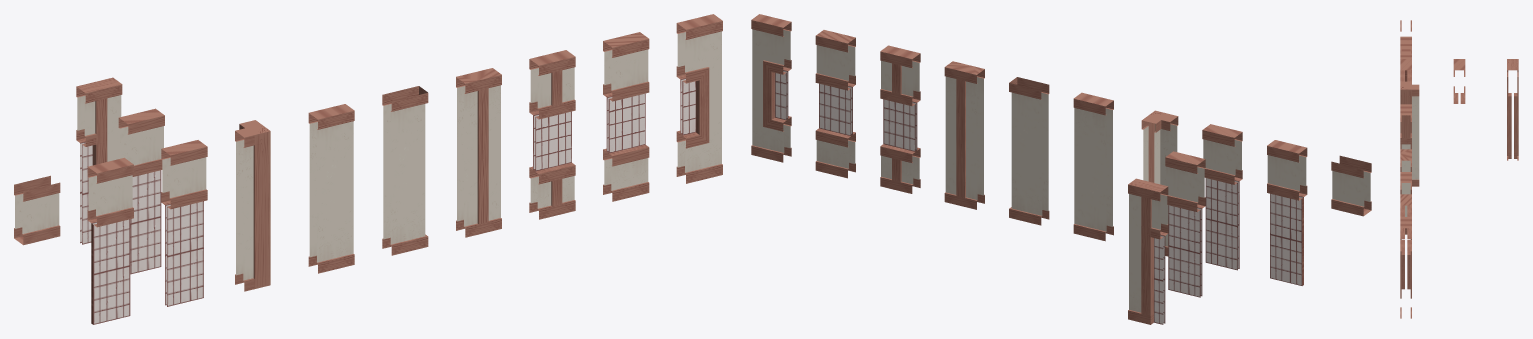
File: Paredes.fbx
3 views of the same model, side by side, from view 1: azimuth 30°, elevation 25°; view 2: azimuth 150°, elevation 25°; view 3: azimuth 270°, elevation 25° (orthographic). The views are drawn at different scales.
Visible parts, largest first — view 1: Pared_Base, Pared_Ventana_Costado, Pared_Soportado.002, Pared_Ventana_Centro_No Sop, Pared_Cerrado, Pared_Ventana_Centro, Pared_Puerta_Cerrado, Pared_Puerta, Pared_Esquina, Pared_Puerta.001, Pared_Base.002, Pared_Puerta_No_Puerta.001; view 2: Pared_Base, Pared_Soportado.002, Pared_Ventana_Costado, Pared_Cerrado, Pared_Ventana_Centro, Pared_Ventana_Centro_No Sop, Pared_Base.002, Pared_Puerta.001, Pared_Puerta, Pared_Puerta_Cerrado, Pared_Esquina, Pared_Puerta_No_Puerta.001; view 3: Pared_Esquina, Pared_Base.002, Pared_Ventana_Costado, Pared_Cerrado, Pared_Ventana_Centro, Pared_Puerta.001, Pared_Puerta_Cerrado, Pared_Ventana_Centro_No Sop, Pared_Soportado.002, Pared_Puerta_No_Puerta.001, Pared_Base, Pared_Puerta.
Part boxes in pixels (x1,y1,x2,y2): Pared_Base: (308,104,354,273); Pared_Ventana_Costado: (676,14,722,183); Pared_Soportado.002: (456,68,501,237); Pared_Ventana_Centro_No Sop: (603,32,649,201); Pared_Cerrado: (382,86,428,255); Pared_Ventana_Centro: (529,50,575,219); Pared_Puerta_Cerrado: (87,157,133,324); Pared_Puerta: (161,140,207,306); Pared_Esquina: (235,120,270,291); Pared_Puerta.001: (118,108,164,274); Pared_Base.002: (76,77,122,244); Pared_Puerta_No_Puerta.001: (14,175,60,245); Pared_Base: (1073,92,1113,241); Pared_Soportado.002: (944,61,984,209); Pared_Ventana_Costado: (751,14,791,162); Pared_Cerrado: (1009,77,1049,225); Pared_Ventana_Centro: (880,45,920,193); Pared_Ventana_Centro_No Sop: (815,30,855,178); Pared_Base.002: (1128,178,1168,324); Pared_Puerta.001: (1165,151,1205,297); Pared_Puerta: (1202,124,1242,270); Pared_Puerta_Cerrado: (1267,140,1307,285); Pared_Esquina: (1141,110,1178,256); Pared_Puerta_No_Puerta.001: (1331,155,1371,216); Pared_Esquina: (1400,81,1419,186); Pared_Base.002: (1507,59,1518,160); Pared_Ventana_Costado: (1400,217,1411,318); Pared_Cerrado: (1400,133,1411,234); Pared_Ventana_Centro: (1400,172,1411,250); Pared_Puerta.001: (1453,59,1465,103); Pared_Puerta_Cerrado: (1400,36,1411,81); Pared_Ventana_Centro_No Sop: (1400,194,1411,239); Pared_Soportado.002: (1400,149,1411,239); Pared_Puerta_No_Puerta.001: (1400,20,1411,58); Pared_Base: (1400,104,1411,121); Pared_Puerta: (1400,59,1411,76).
Size of the model in its own units: 1900 by 400 by 444.
